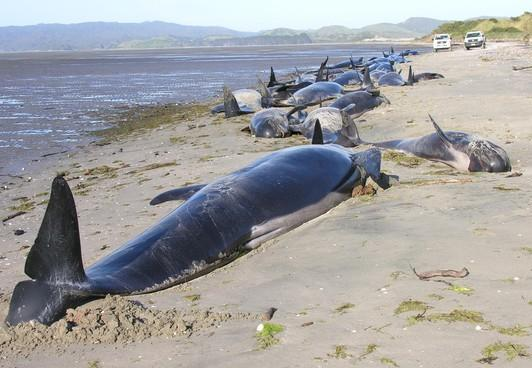fish: (5, 124, 380, 328)
